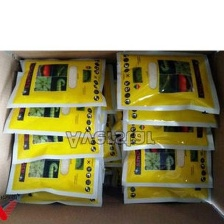insecticide: (112, 47, 221, 115), (0, 70, 105, 139), (119, 83, 218, 153), (1, 52, 108, 112), (8, 105, 106, 166), (2, 141, 101, 200), (117, 128, 214, 188), (120, 76, 221, 127), (9, 160, 105, 209), (119, 159, 216, 207)
